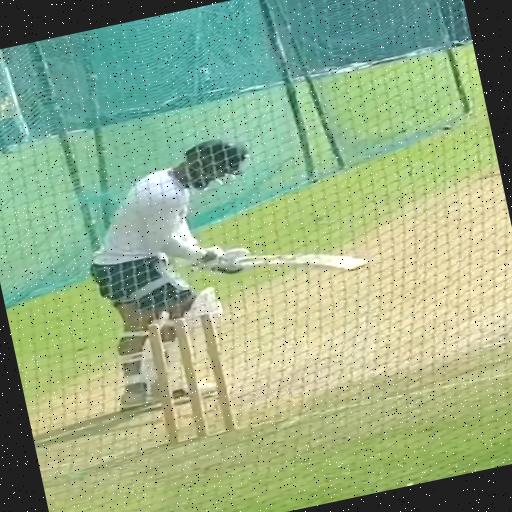Cricket bat: (237, 253, 368, 270)
